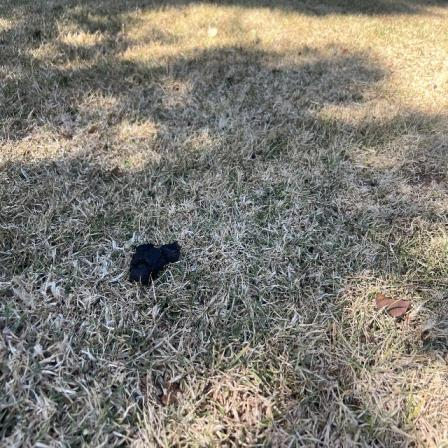dog-poop: (128, 238, 184, 284)
